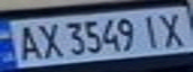3: (60, 18, 84, 56)
4: (100, 16, 124, 53)
5: (81, 17, 103, 55)
9: (115, 15, 142, 52)
A: (6, 21, 45, 62)
I: (136, 11, 169, 50)
X: (151, 8, 193, 48), (30, 20, 66, 61)
